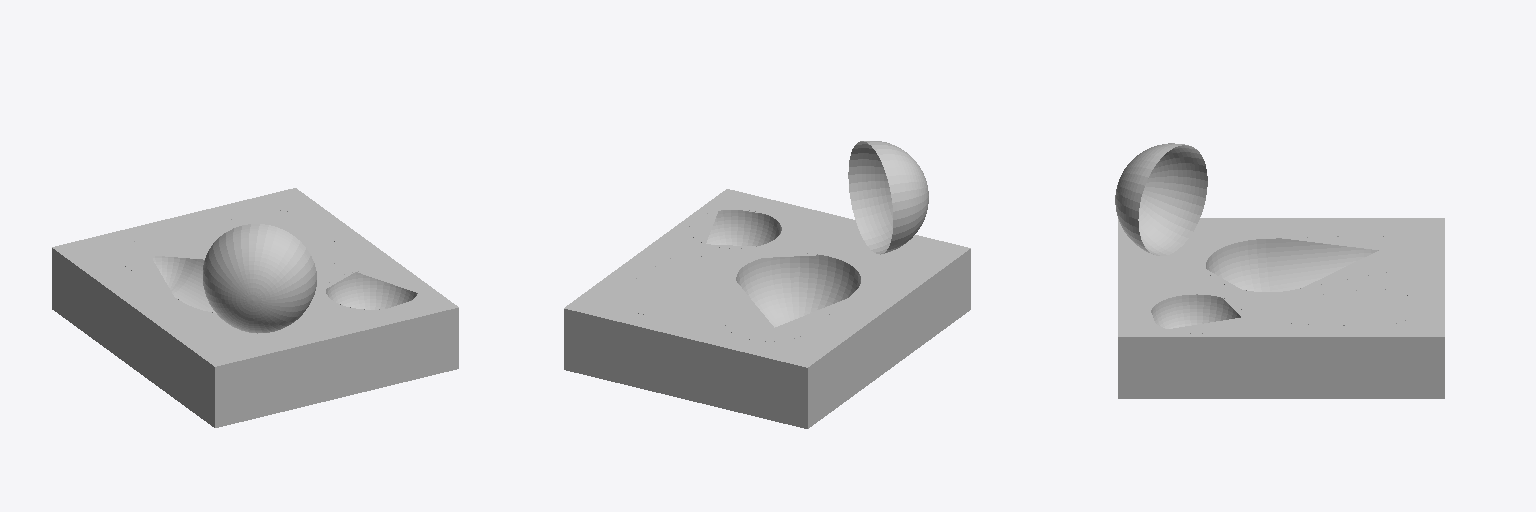
Rendered from platform.obj.
3 renders of one model, left to right at view 1: azimuth 30°, elevation 25°; view 2: azimuth 150°, elevation 25°; view 3: azimuth 270°, elevation 25°, orthographic.
Parts seen in each view (by area): view 1: initialShadingGroup pSphere4, initialShadingGroup polySurface8 polySurface3, initialShadingGroup pSphere2, initialShadingGroup polySurface11; view 2: initialShadingGroup pSphere4, initialShadingGroup polySurface8 polySurface3, initialShadingGroup polySurface11, initialShadingGroup pSphere2; view 3: initialShadingGroup pSphere4, initialShadingGroup polySurface8 polySurface3, initialShadingGroup polySurface11, initialShadingGroup pSphere2.
Part boxes in pixels (x1,y1,x2,y2): initialShadingGroup pSphere4: (52, 188, 458, 427); initialShadingGroup polySurface8 polySurface3: (203, 224, 316, 333); initialShadingGroup pSphere2: (326, 272, 417, 309); initialShadingGroup polySurface11: (125, 241, 212, 312); initialShadingGroup pSphere4: (564, 189, 970, 428); initialShadingGroup polySurface8 polySurface3: (848, 141, 928, 254); initialShadingGroup polySurface11: (725, 253, 860, 341); initialShadingGroup pSphere2: (689, 210, 781, 248); initialShadingGroup pSphere4: (1118, 218, 1444, 398); initialShadingGroup polySurface8 polySurface3: (1115, 143, 1207, 255); initialShadingGroup polySurface11: (1206, 236, 1386, 291); initialShadingGroup pSphere2: (1151, 294, 1240, 333).
Size of the model in its own units: 21 by 13.7 by 24.55.